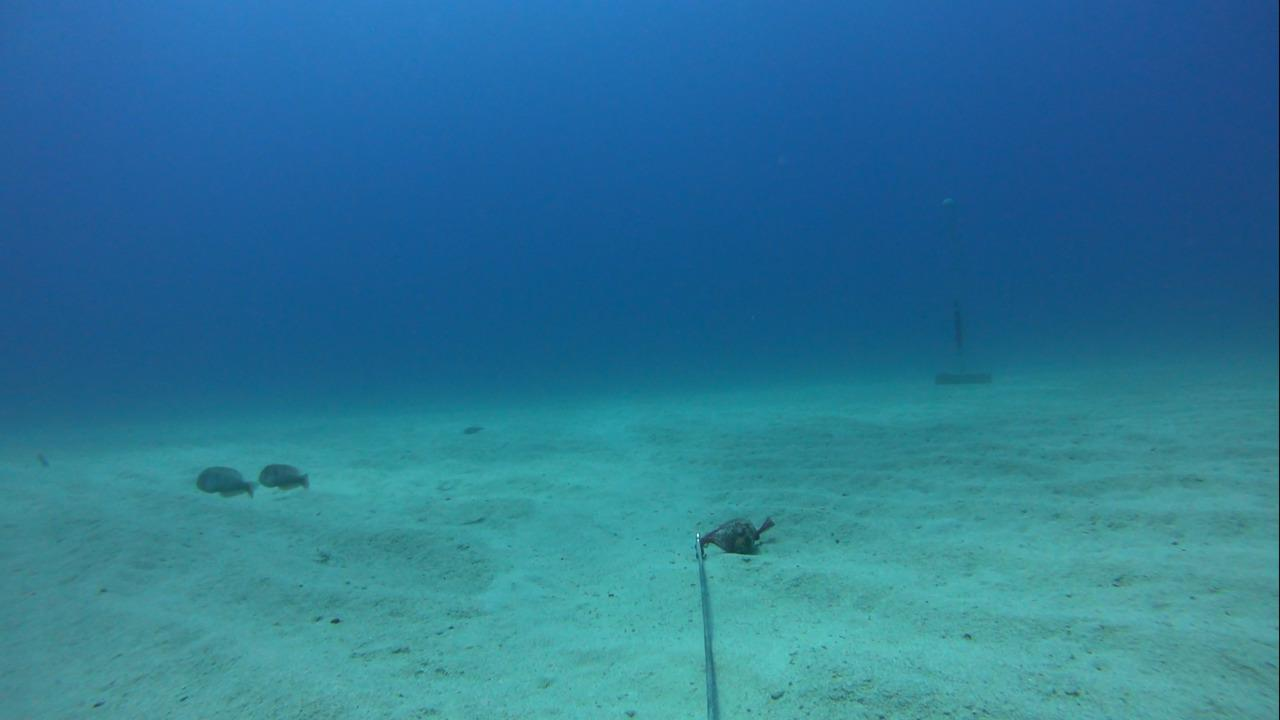raor: (185, 458, 254, 501), (256, 455, 313, 493)
